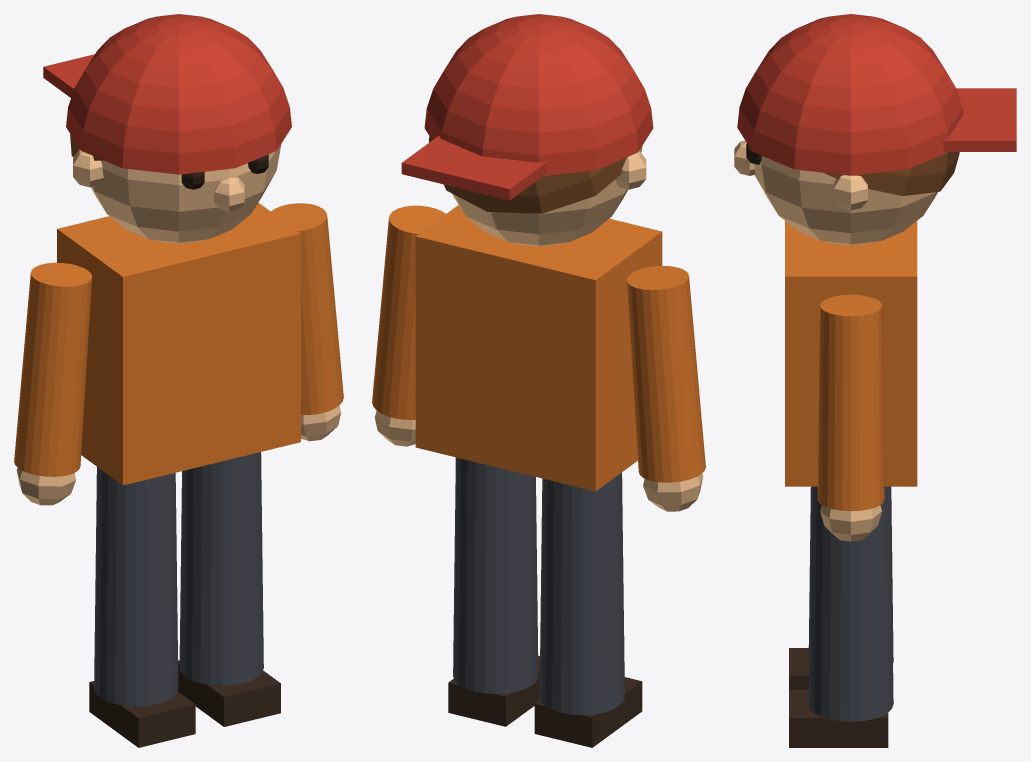
Rendered from SENYA.glb.
The picture shows the model from 3 angles, left to right: view 1: azimuth 30°, elevation 25°; view 2: azimuth 150°, elevation 25°; view 3: azimuth 270°, elevation 25°; orthographic projection.
Parts seen in each view (by area): view 1: torso, head, leg_left, leg_right, arm_left, arm_right; view 2: torso, head, leg_left, leg_right, arm_left, arm_right; view 3: head, torso, leg_right, arm_right, leg_left.
Part boxes in pixels (bbox=[...]): torso: bbox=[57, 202, 300, 485]; head: bbox=[43, 14, 291, 243]; leg_left: bbox=[89, 467, 195, 747]; leg_right: bbox=[178, 452, 280, 726]; arm_left: bbox=[14, 262, 92, 505]; arm_right: bbox=[271, 203, 343, 441]; torso: bbox=[415, 205, 662, 491]; head: bbox=[401, 14, 653, 246]; leg_left: bbox=[534, 472, 642, 747]; leg_right: bbox=[448, 457, 540, 726]; arm_left: bbox=[626, 266, 705, 511]; arm_right: bbox=[372, 205, 445, 446]; head: bbox=[734, 14, 1016, 245]; torso: bbox=[785, 221, 917, 486]; leg_right: bbox=[789, 486, 893, 747]; arm_right: bbox=[817, 294, 884, 541]; leg_left: bbox=[789, 487, 893, 689].
Size of the model in its own units: 0.9014 by 1.84 by 0.6821.
